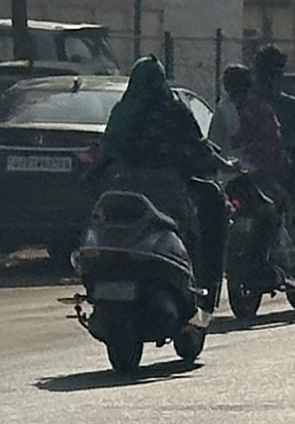BikeWithRider: (53, 50, 235, 379), (220, 41, 295, 329)
NoHelmet: (115, 50, 176, 108), (253, 42, 290, 95), (217, 61, 252, 108)
